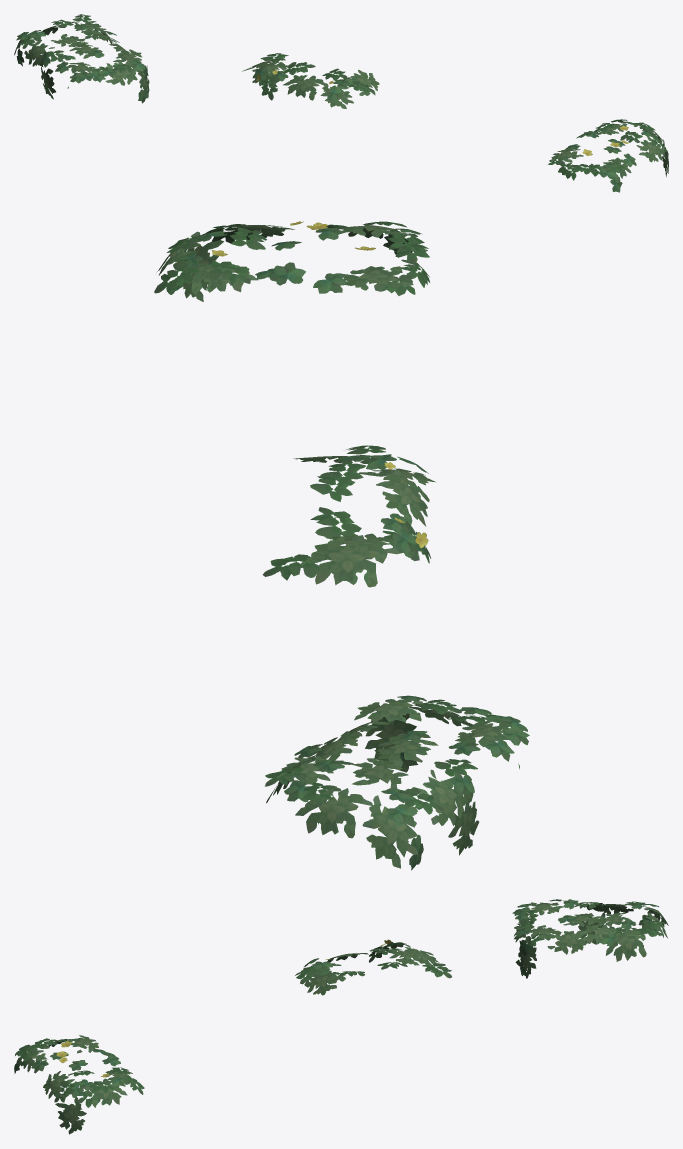
File: pref_sm_beach_bk_pointmol_grassplant03b_lv1.fbx
3 renders of one model, top to bottom at view 1: azimuth 30°, elevation 25°; view 2: azimuth 150°, elevation 25°; view 3: azimuth 270°, elevation 25°, orthographic. The views are drawn at different scales.
Visible parts, largest first — view 1: pref_sm_beach_bk_pointmol_grassplant03b_lv1; view 2: pref_sm_beach_bk_pointmol_grassplant03b_lv1; view 3: pref_sm_beach_bk_pointmol_grassplant03b_lv1.
Part boxes in pixels (bbox=[...]): pref_sm_beach_bk_pointmol_grassplant03b_lv1: bbox=[14, 14, 668, 192]; pref_sm_beach_bk_pointmol_grassplant03b_lv1: bbox=[154, 221, 529, 870]; pref_sm_beach_bk_pointmol_grassplant03b_lv1: bbox=[14, 899, 668, 1134].
Size of the model in its own units: 12.73 by 2.06 by 17.35.
